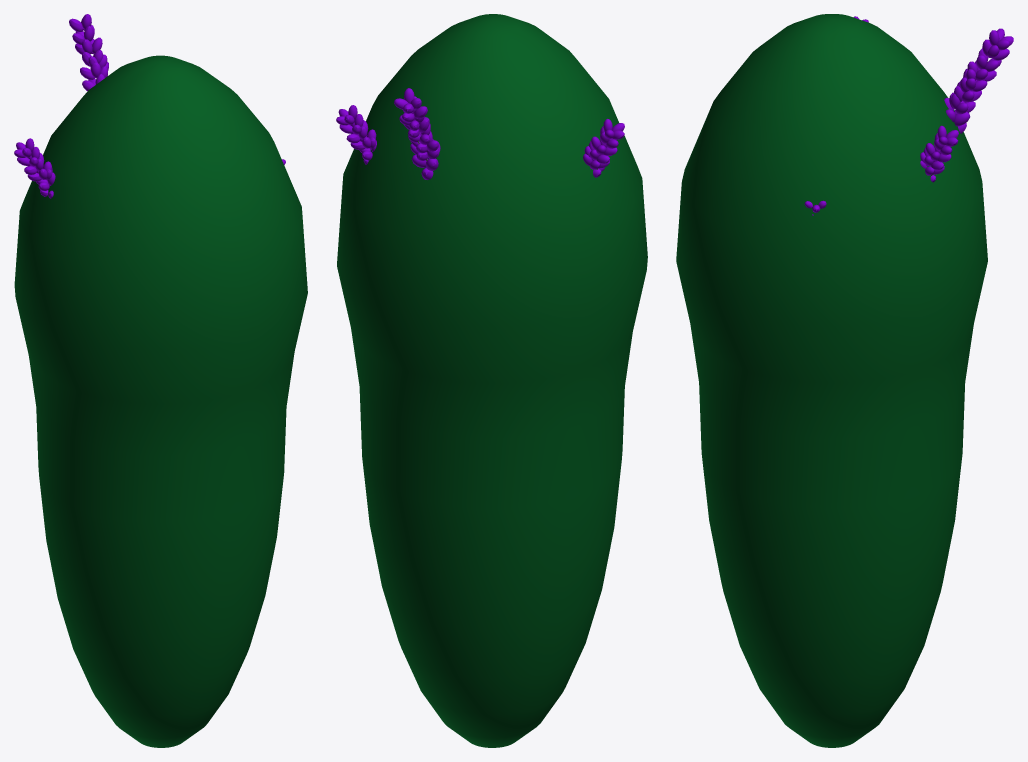
The model's file is laven-5.glb.
3 views of the same model, side by side, from view 1: azimuth 30°, elevation 25°; view 2: azimuth 150°, elevation 25°; view 3: azimuth 270°, elevation 25° (orthographic). The views are drawn at different scales.
Visible parts, largest first — view 1: Sphere.003, Icosphere.012, Icosphere.017; view 2: Sphere.003, Icosphere.012, Icosphere.017, Icosphere.015; view 3: Sphere.003, Icosphere.012, Icosphere.015.
Boxes of the visible parts, x1,y1,x2,y2 form: Sphere.003: (14, 55, 307, 747); Icosphere.012: (69, 14, 108, 91); Icosphere.017: (14, 138, 55, 198); Sphere.003: (337, 14, 647, 747); Icosphere.012: (394, 88, 440, 179); Icosphere.017: (583, 119, 624, 177); Icosphere.015: (336, 105, 376, 164); Sphere.003: (676, 14, 987, 747); Icosphere.012: (944, 28, 1013, 133); Icosphere.015: (920, 125, 958, 182).
Size of the model in its own units: 0.8681 by 2.15 by 0.9094.
